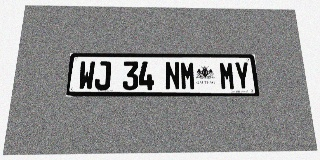3: (122, 61, 138, 90)
4: (138, 61, 154, 90)
J: (94, 61, 111, 90)
M: (219, 62, 236, 90), (180, 61, 196, 90)
N: (165, 61, 180, 90)
W: (78, 61, 95, 90)
Y: (234, 62, 251, 90)
